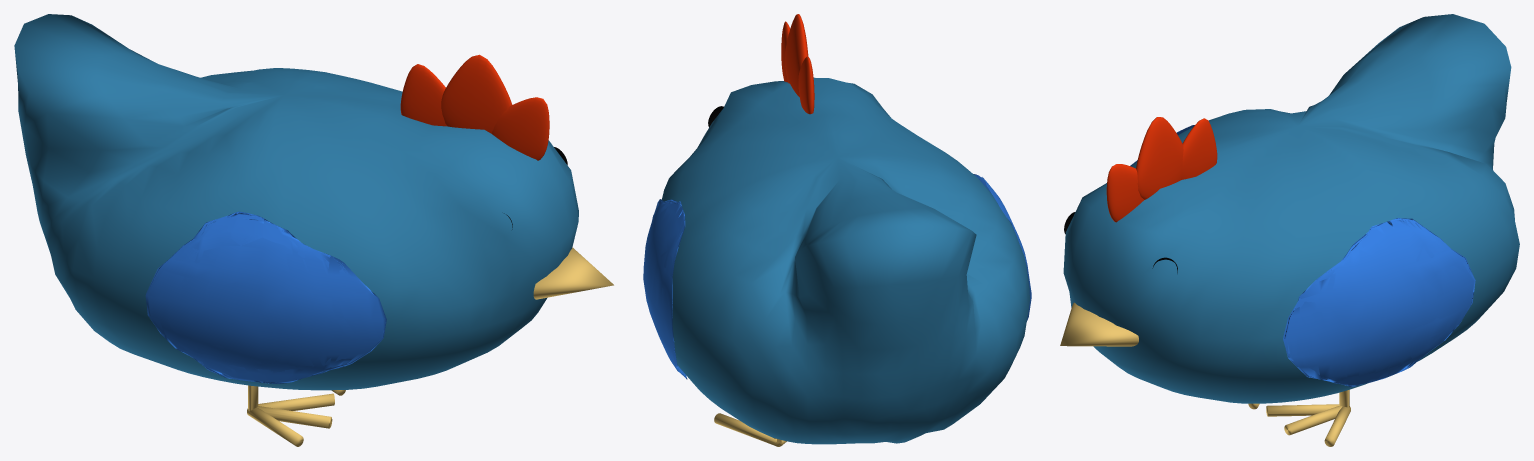
The model's file is galinha_azul.glb.
The picture shows the model from 3 angles, left to right: view 1: azimuth 30°, elevation 25°; view 2: azimuth 150°, elevation 25°; view 3: azimuth 270°, elevation 25°; orthographic projection. The views are drawn at different scales.
Parts seen in each view (by area): view 1: galinha_azul; view 2: galinha_azul; view 3: galinha_azul.
Boxes of the visible parts, x1,y1,x2,y2 form: galinha_azul: (14,14,613,446); galinha_azul: (643,14,1031,446); galinha_azul: (1060,14,1519,446).
Bounding box in the file's own units: 0.6921 × 0.5879 × 0.7337.
